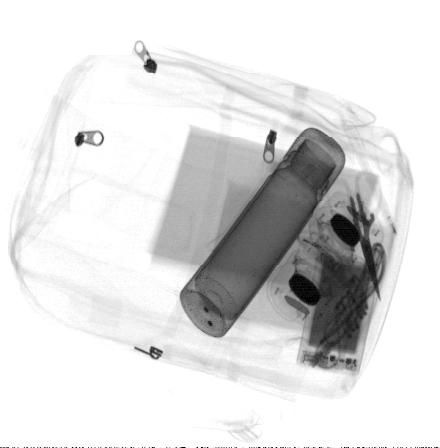Powerbank: (299, 243, 383, 377)
Scissors: (322, 167, 385, 308)
